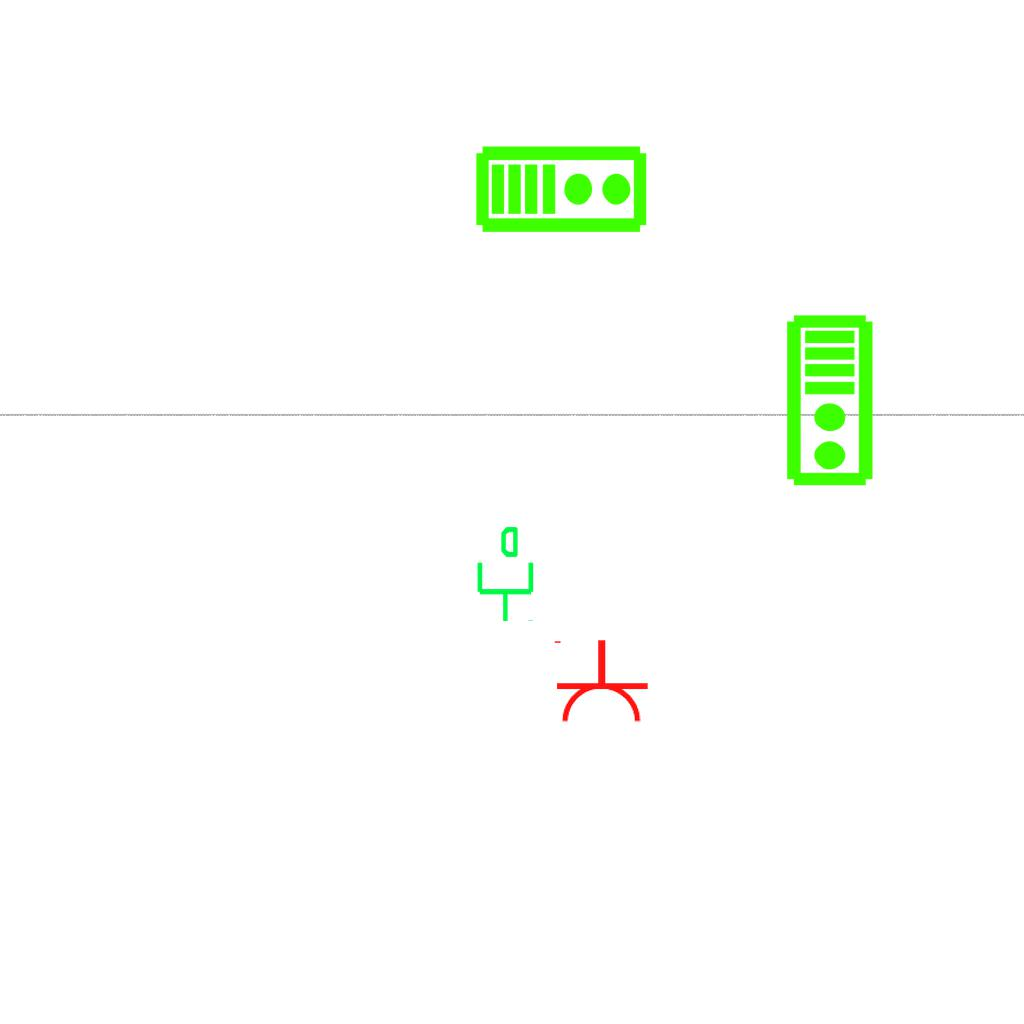Datenanschluss_einfach: (469, 524, 538, 624)
Gegensprechanlage_mit_Video: (474, 140, 650, 235), (784, 313, 879, 489)
Schukosteckdose_einfach: (550, 638, 650, 725)
